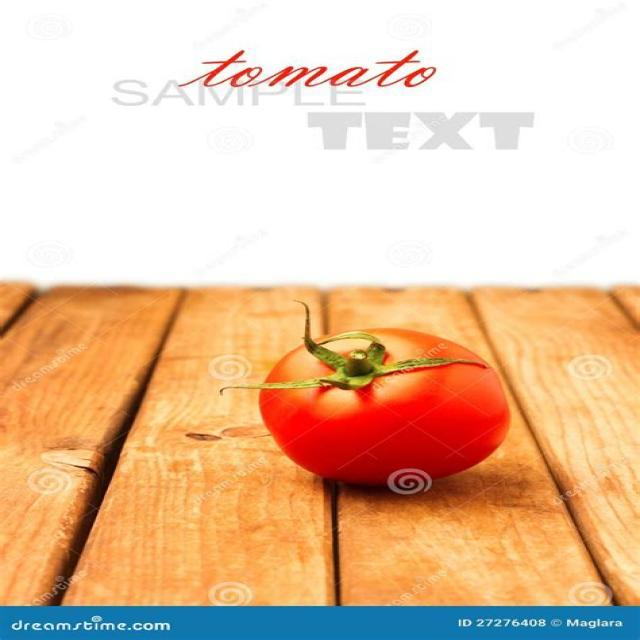Tomato: (257, 330, 514, 499)
